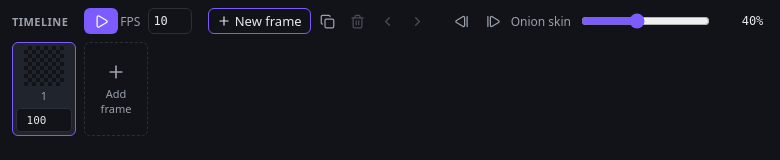
TimelinePanel › adds, duplicates and deletes frames
Expected: the button named "Delete frame" is disabled, [343,8,371,34]
Click the button "New frame". click: {"x": 259, "y": 21}
box: [208,8,311,34]
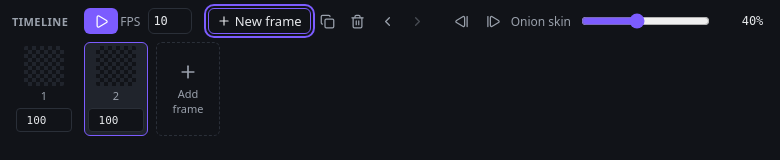
Click the button named "Duplicate frame". click: {"x": 327, "y": 21}
box: [313,8,341,34]
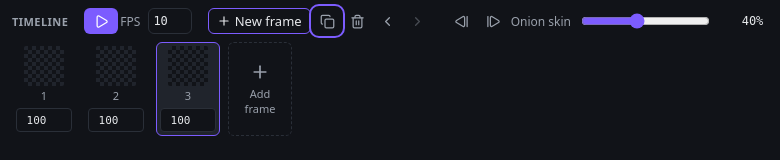
Expected: the number of buttons "1" is 3, [13,43,75,106]; [85,43,147,106]; [157,43,219,106]
Click the button named "Delete frame". click: {"x": 357, "y": 21}
box: [343,8,371,34]
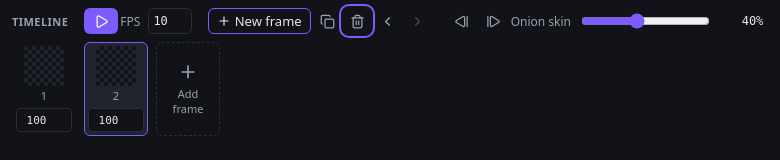
Expected: the number of buttons "1" is 2, [13,43,75,106]; [85,43,147,106]
